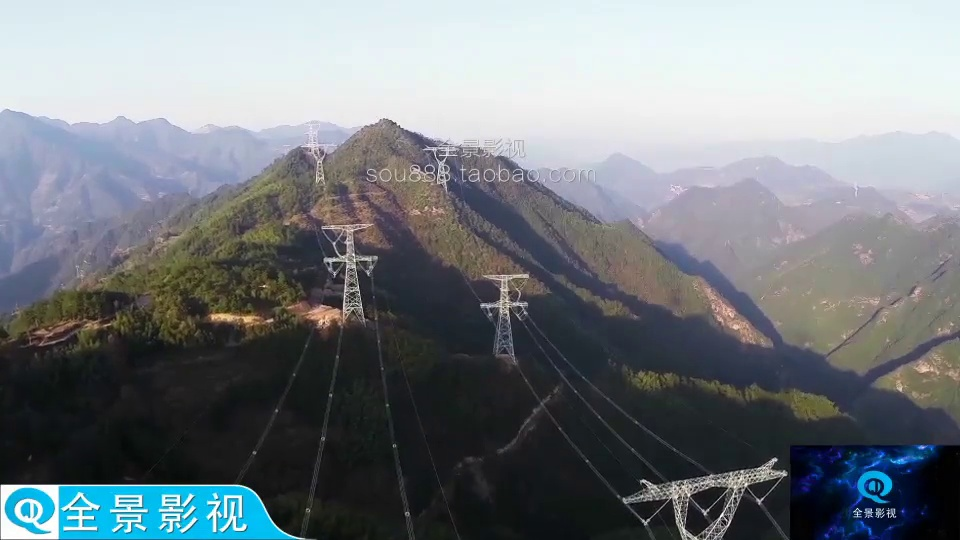tower_body: (314, 219, 386, 332), (471, 264, 535, 366)
tower_foot: (338, 293, 373, 328), (494, 333, 520, 362)
tower_head: (476, 269, 533, 286), (319, 222, 382, 236)
